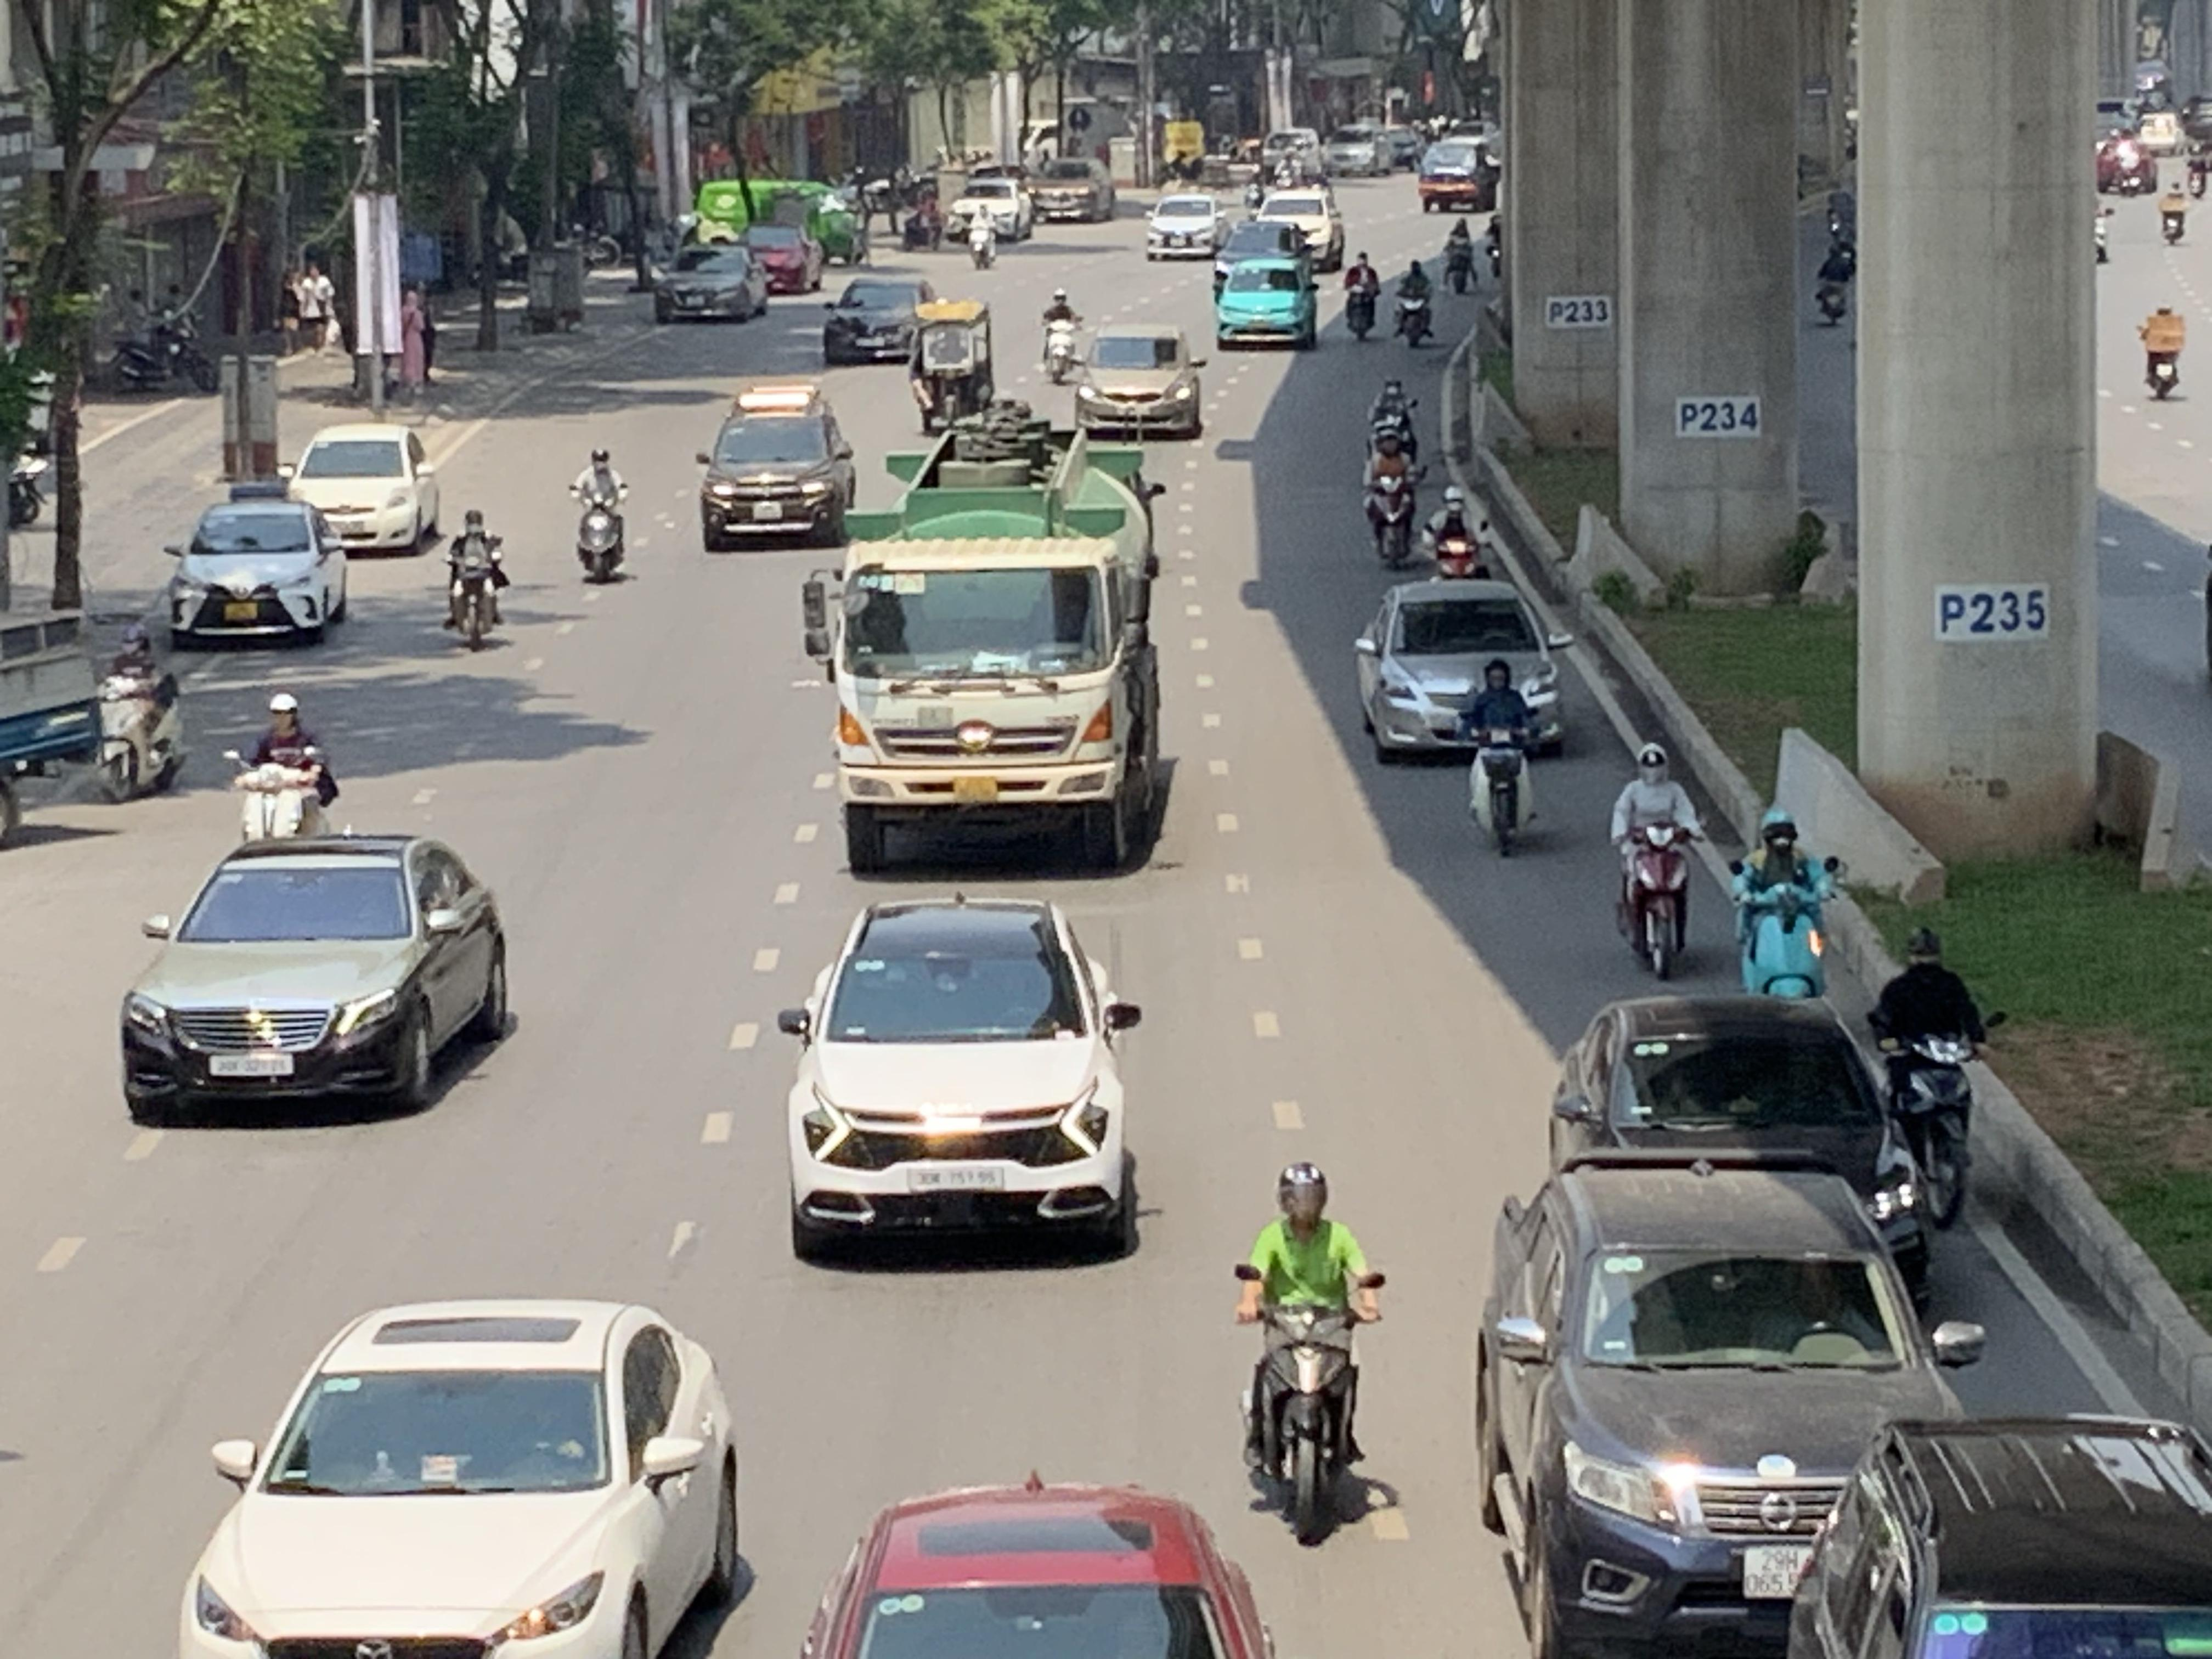BSD: (907, 1162, 1014, 1192), (209, 1054, 293, 1077)
BSV: (1742, 1546, 1813, 1600)
car: (1468, 1159, 1986, 1659), (172, 1297, 752, 1659), (777, 897, 1146, 1263), (1541, 992, 1937, 1295), (117, 831, 516, 1126), (1766, 1412, 2212, 1659), (759, 1480, 1329, 1659), (1352, 577, 1575, 763), (164, 498, 350, 648), (695, 389, 857, 551), (282, 423, 442, 558), (1073, 326, 1207, 439), (822, 274, 937, 366), (1214, 254, 1320, 350), (653, 242, 770, 324), (1028, 155, 1115, 225), (1418, 138, 1494, 214), (1144, 192, 1228, 261)
motorbike: (1235, 1159, 1385, 1547), (1867, 924, 1991, 1229), (1728, 809, 1843, 1002), (1611, 744, 1702, 981), (228, 694, 340, 849), (94, 622, 186, 803), (1461, 659, 1543, 857), (111, 286, 218, 397), (442, 505, 509, 652), (570, 444, 631, 584), (1362, 430, 1421, 570), (1425, 484, 1491, 582), (1366, 378, 1423, 477), (2137, 298, 2186, 401), (1040, 289, 1083, 385), (1393, 256, 1435, 349), (1343, 249, 1383, 342), (1442, 218, 1479, 296), (2156, 166, 2191, 246)
truck: (801, 427, 1174, 875)
